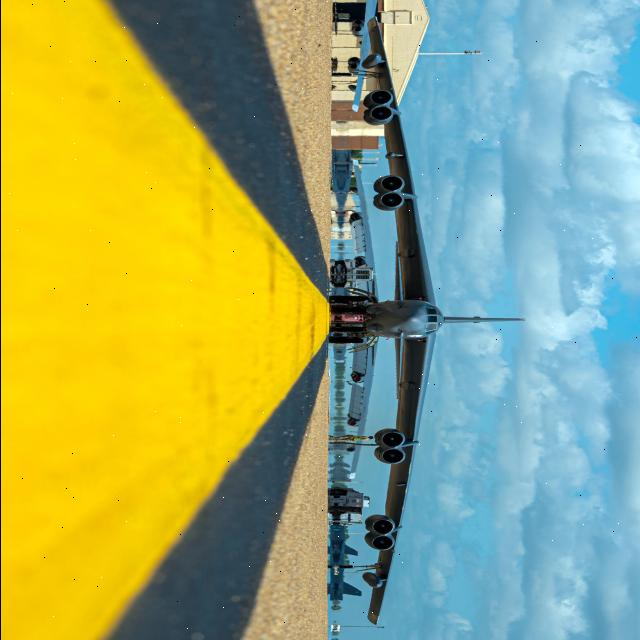B1: (302, 8, 554, 636)
